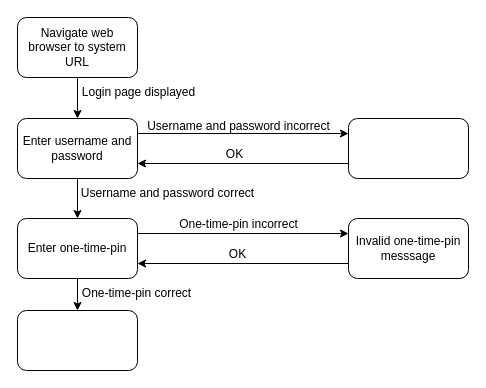
The diagram is 486 pixels wide and 388 high, and some of its shapes have lost their labels. The shapes that lost their labels are listed below. From the top down, each one's centre as x and y in pixels, then its label:
At point 408,148: "Invalid username or password messsage".
At point 77,340: "Welcome page".
